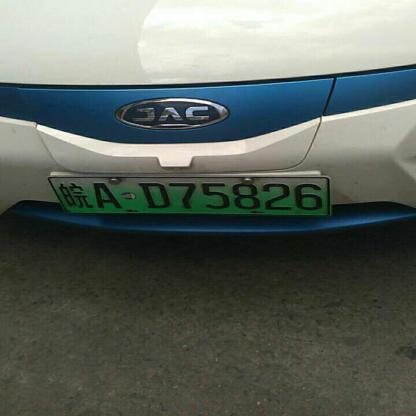lp: (50, 177, 67, 214)
